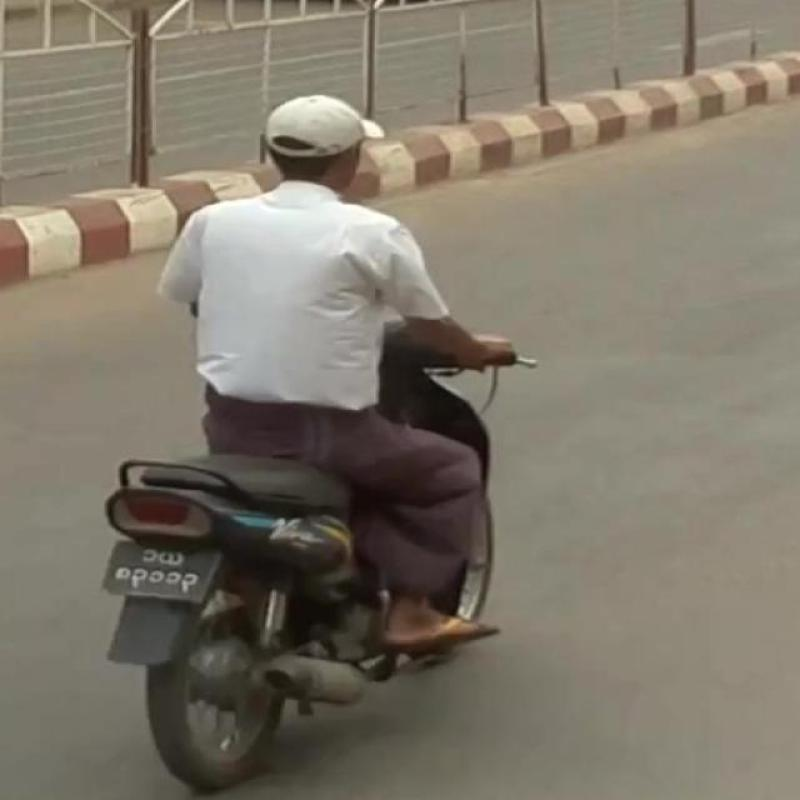nohelmet: (224, 87, 438, 230)
